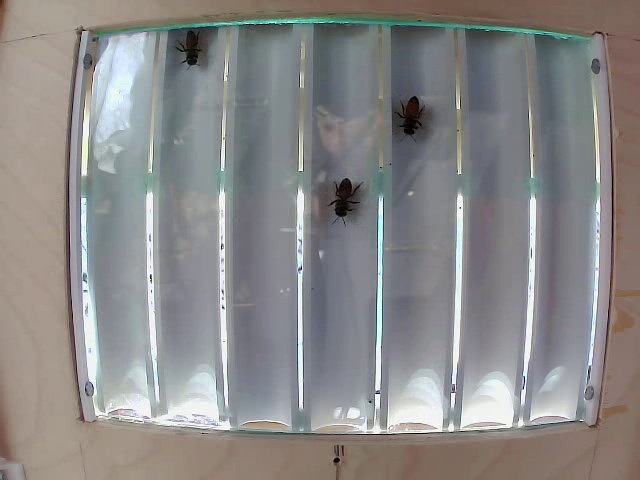bee: (325, 170, 371, 219), (391, 97, 429, 146), (161, 21, 199, 62)
